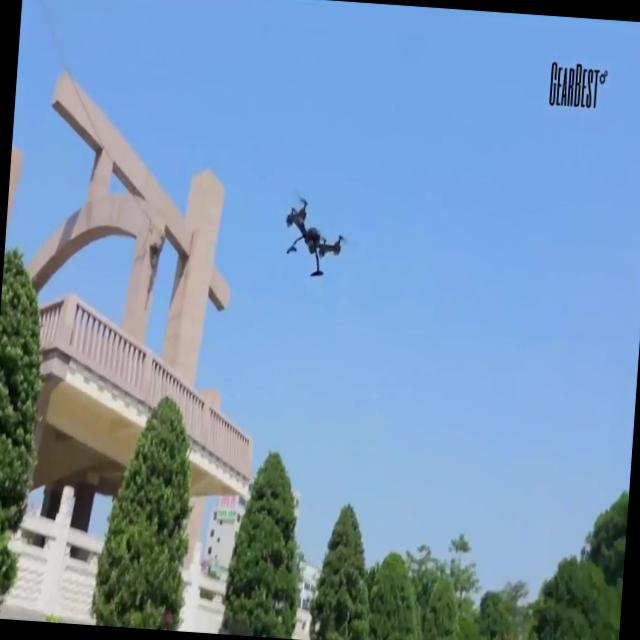drone: (280, 192, 346, 280)
